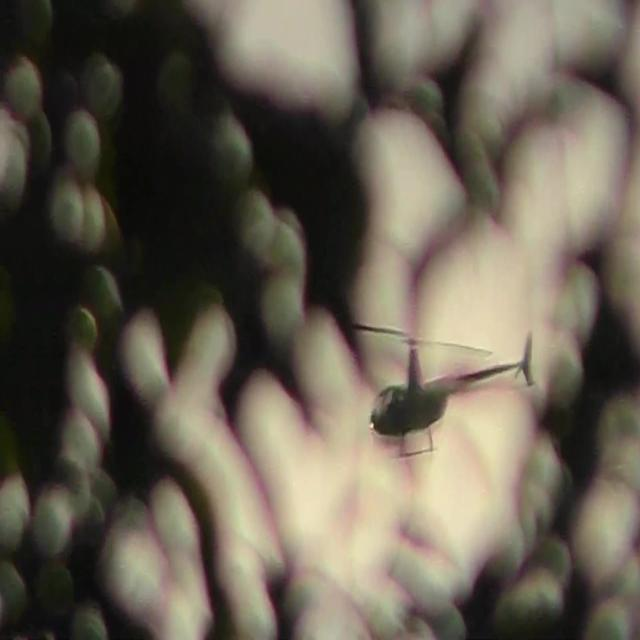CIV_HELO: (369, 329, 535, 462)
